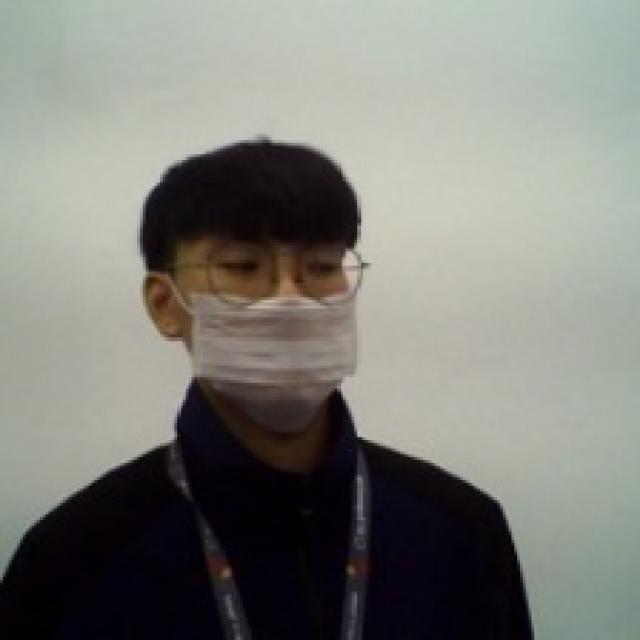mask: (142, 268, 362, 439)
no_gloves: (137, 130, 366, 264)
